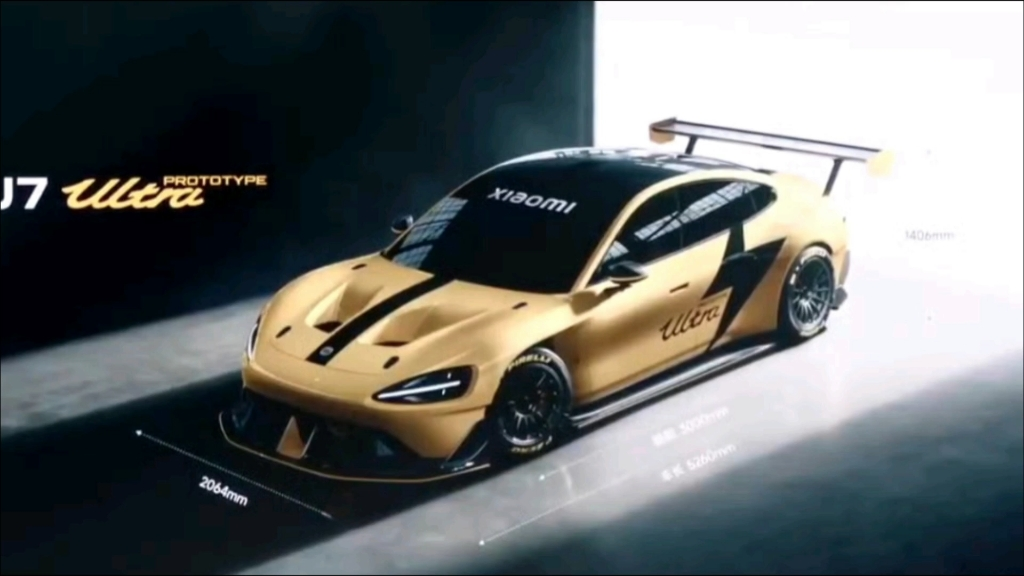su7: (220, 122, 887, 484)
